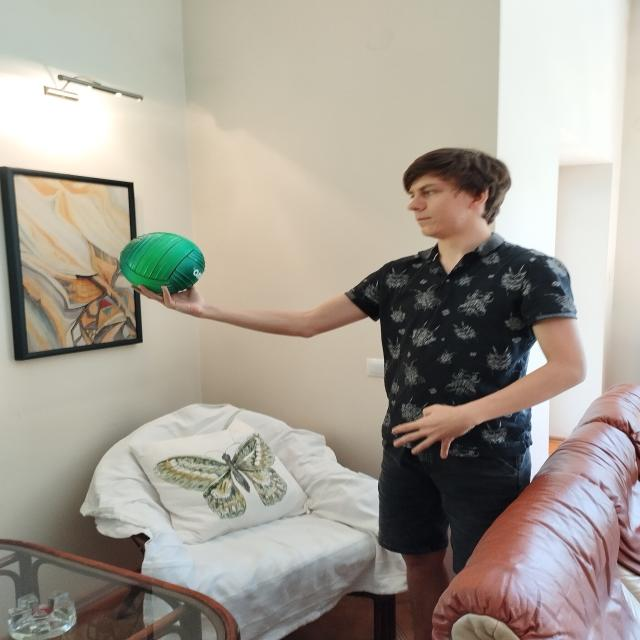zielona: (122, 233, 205, 291)
